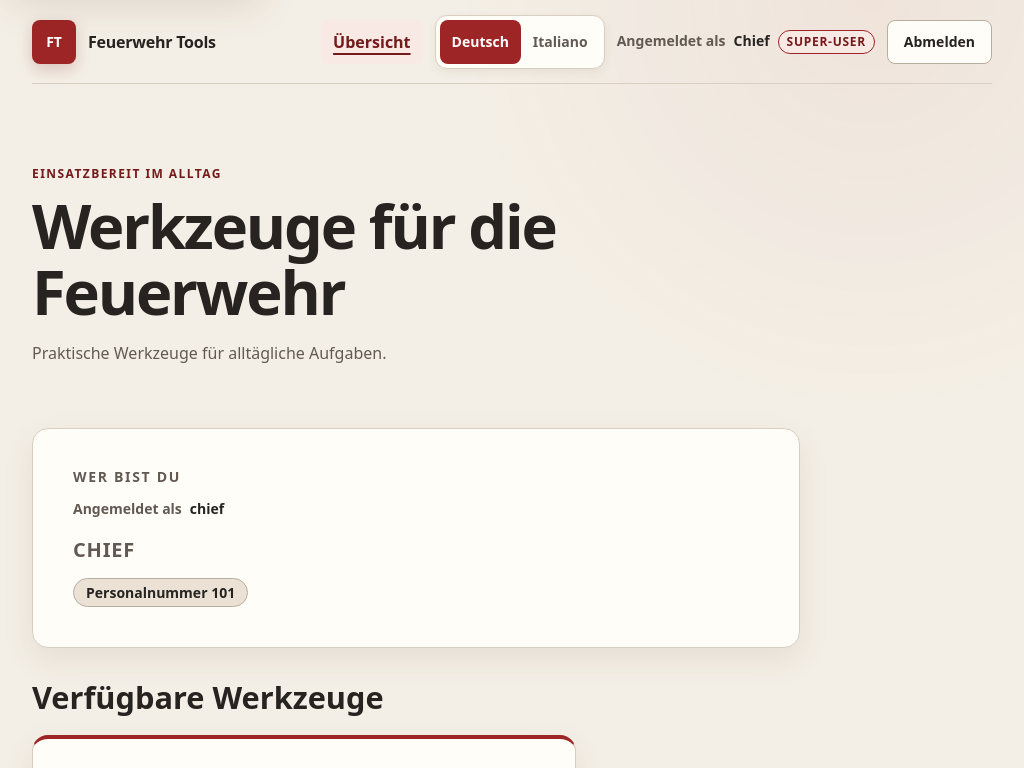
it: App routing › switches to Italian and back while persisting each explicit choice
Click the button "Italiano". click: (560, 42)
box: [521,20,600,64]
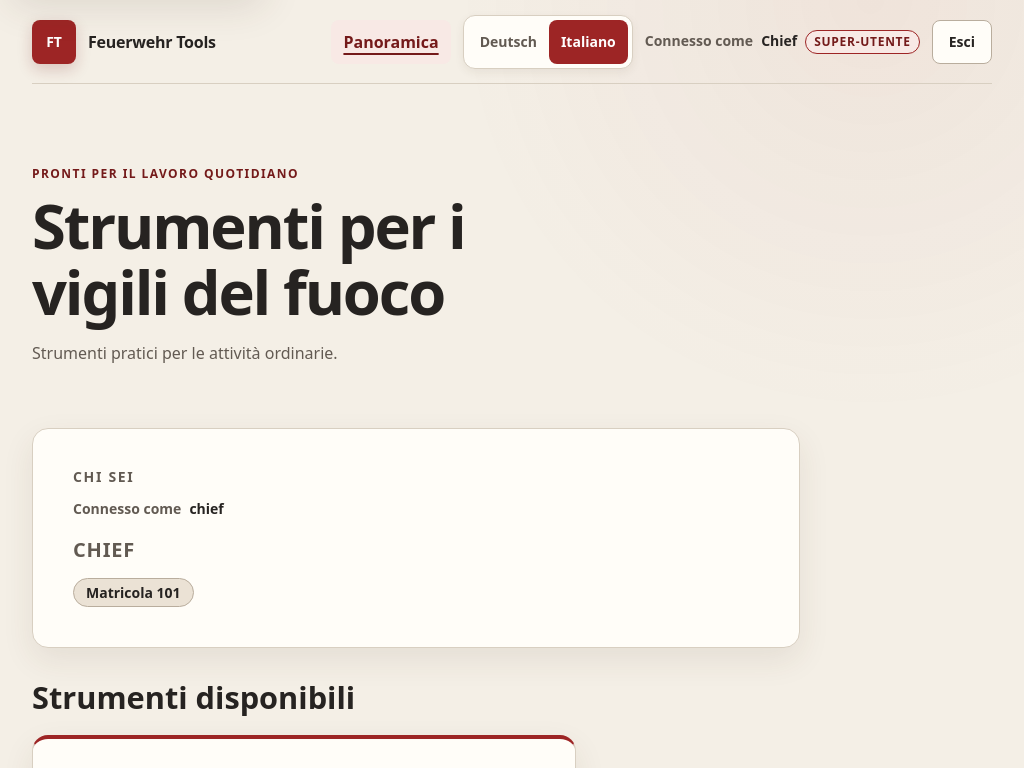
Expected: the text "Feuerwehr Tools" is shown, [88,30,216,52]
Now the heading "Strumenti per i vigili del fuoco" is shown, box [32,183,465,333]
Click the button "Deutsch". click: (508, 42)
box: [468,20,549,64]
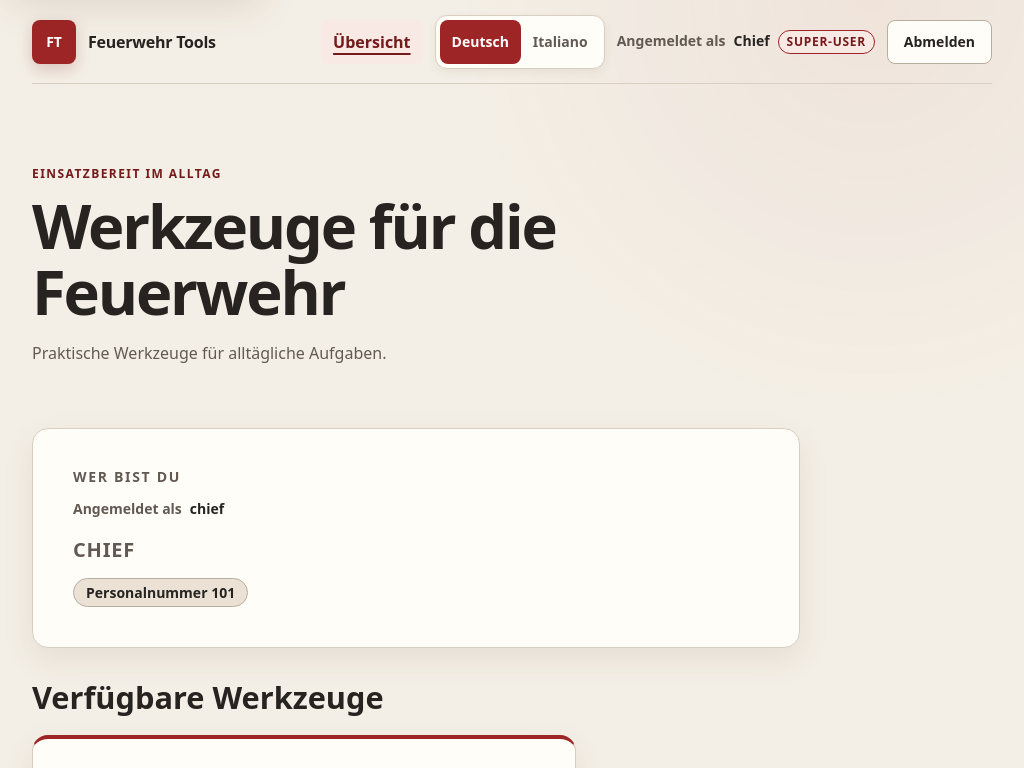
Now the heading "Werkzeuge für die Feuerwehr" is shown, box [32,192,594,324]
